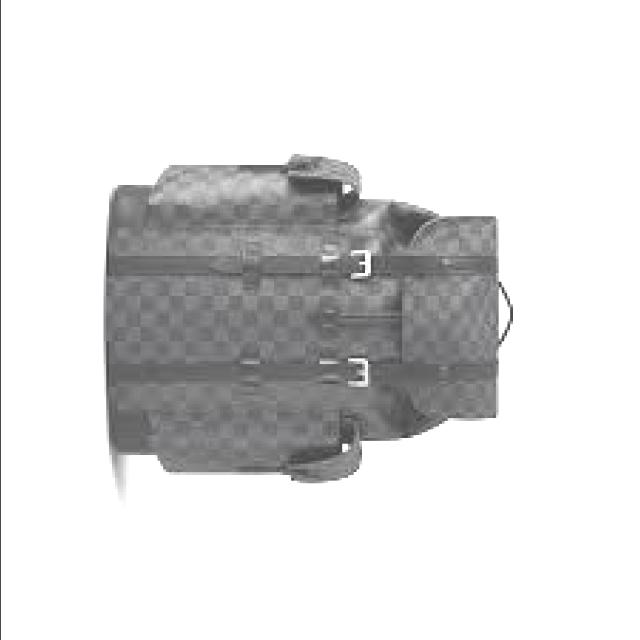backpack: (106, 152, 516, 485)
